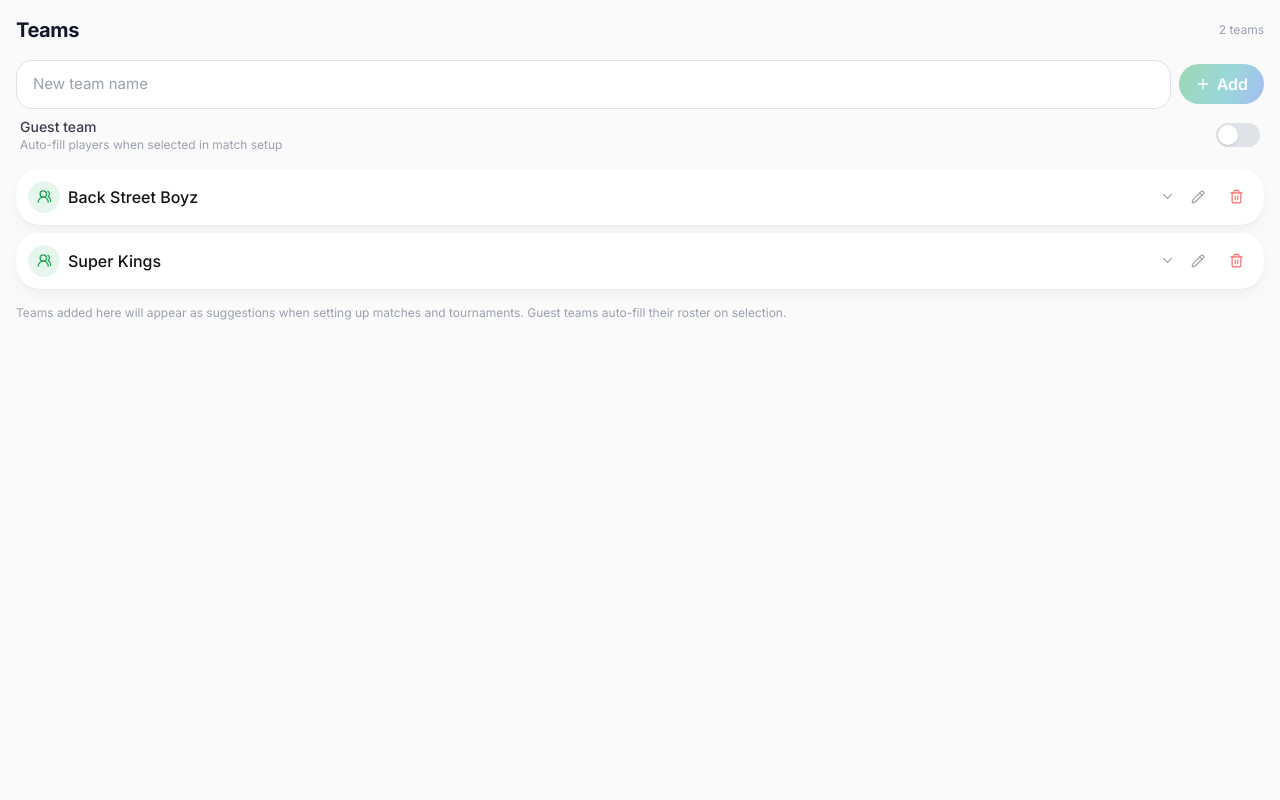
it: Teams — roster player filtering › shows a player assigned to another team as disabled with 'In <team>' label
The width and height of the screenshot is (1280, 800).
Expected: the text "Back Street Boyz" is shown, [68,184,198,208]
Click the button "Super Kings".
click(115, 260)  # box [68,248,1175,272]
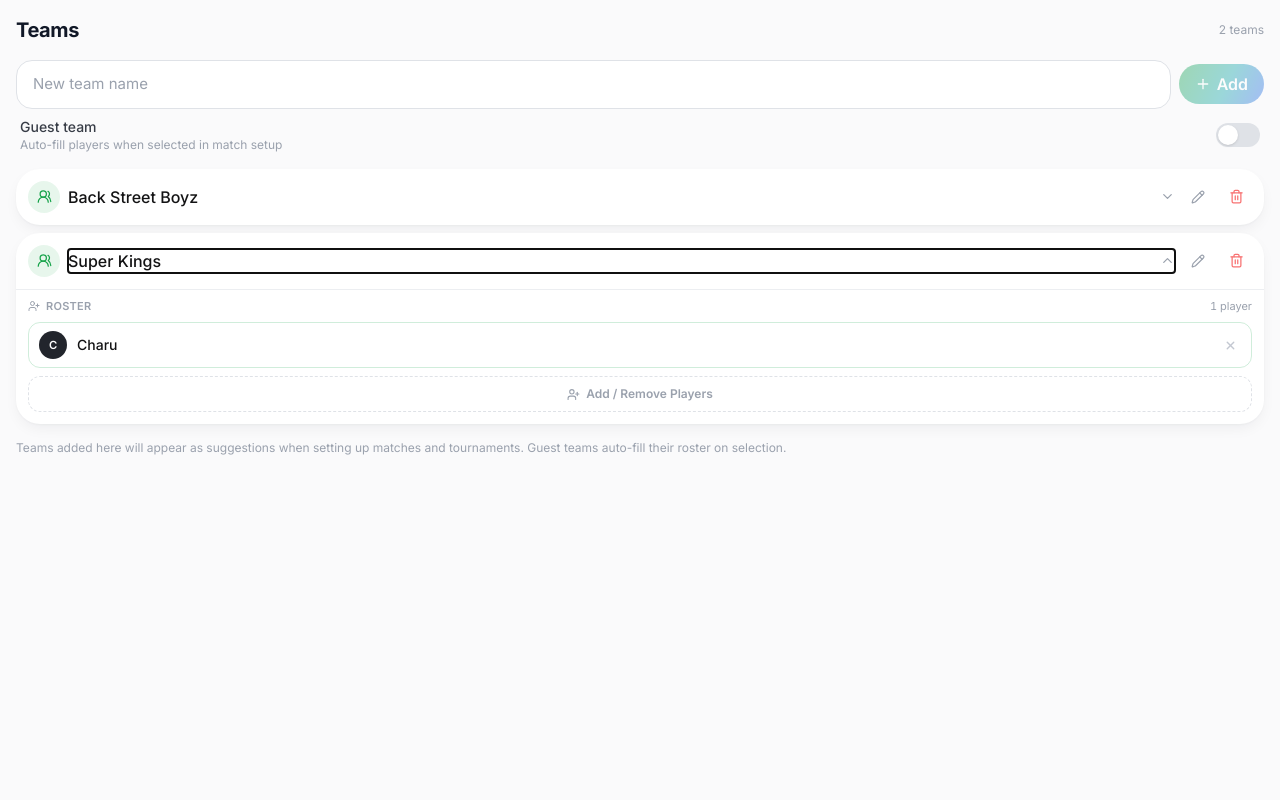
Expected: the text "Roster" is shown, [28,298,92,314]
Click the button "Add / Remove Players".
click(640, 394)  # box [28,376,1252,412]
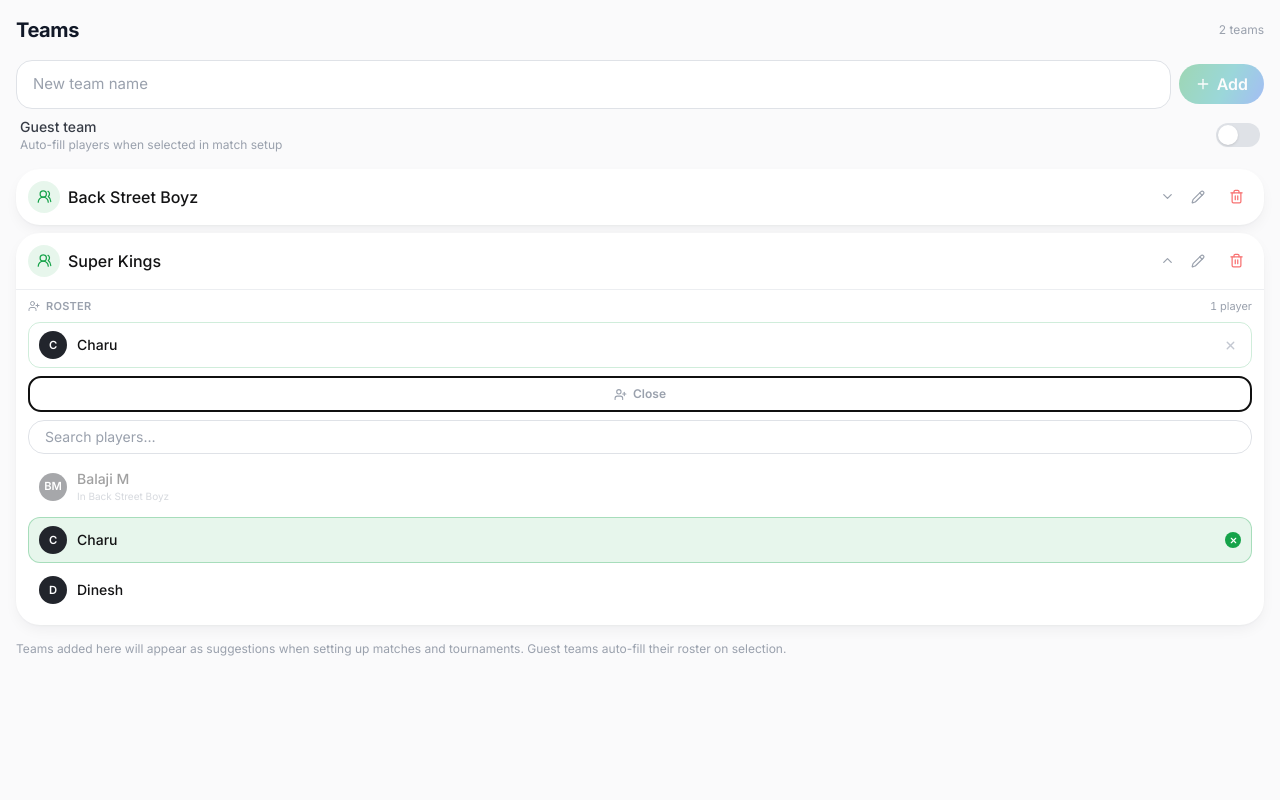
Expected: the field with placeholder "Search players…" is shown, [28,420,1252,454]
Expected: the button "BM Balaji M In Back Street Boyz" is disabled, [28,460,1252,513]
Expected: the text "In Back Street Boyz" is shown, [77,490,169,502]
